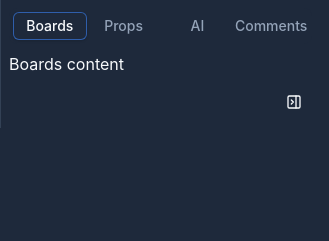
Right panel collapse › collapses to icon rail when collapse is clicked
The width and height of the screenshot is (329, 241).
Step 1. Click the button with test id "sidebar-collapse" → (294, 102), box x1=276 y1=84 x2=312 y2=120
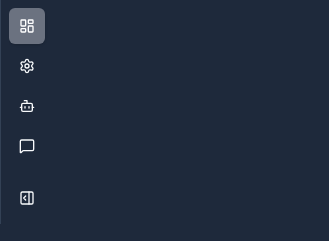
Result: the element with test id "sidebar" is collapsed at x1=0 y1=0 x2=56 y2=224
Result: the button with test id "sidebar-expand" is shown at x1=9 y1=180 x2=45 y2=216
Result: the button with test id "sidebar-rail-tab-boards" is shown at x1=9 y1=8 x2=45 y2=44
